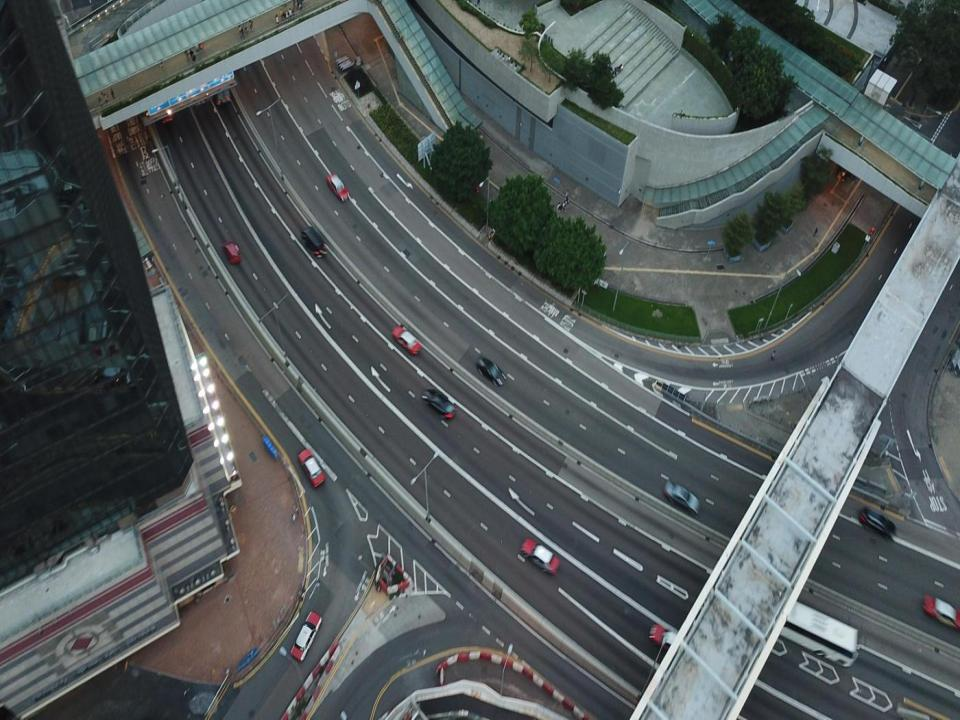bus: (765, 588, 859, 666)
car: (288, 612, 326, 662), (520, 536, 560, 572), (923, 593, 960, 629), (664, 480, 702, 514), (649, 624, 692, 654), (420, 386, 456, 420), (298, 448, 326, 489), (477, 354, 509, 386), (392, 324, 422, 354), (326, 172, 351, 201), (224, 240, 242, 262)
van: (857, 507, 898, 539), (301, 225, 326, 257)
